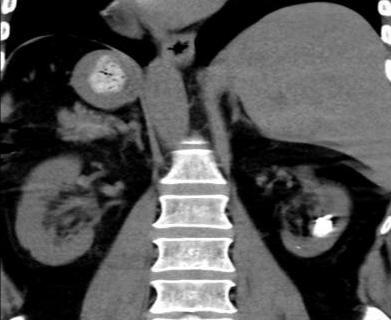Tas_Var: (309, 212, 335, 235), (322, 213, 332, 220), (294, 245, 302, 251), (316, 234, 324, 239)
